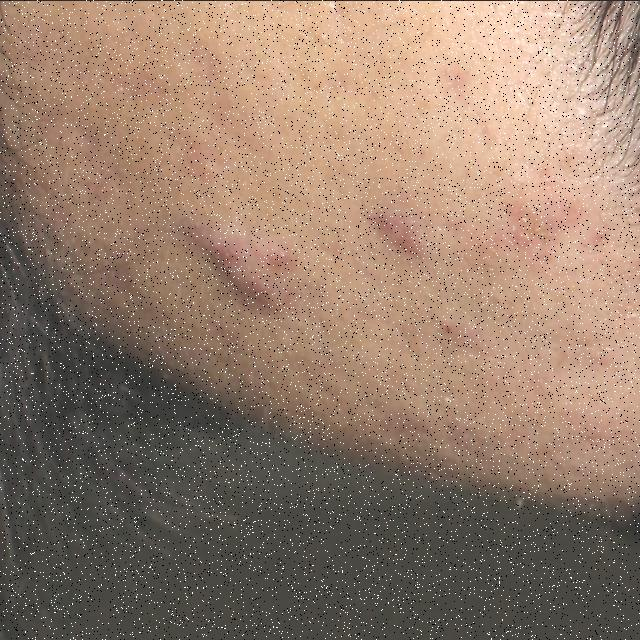nodules: (171, 192, 309, 342), (360, 196, 436, 280)
